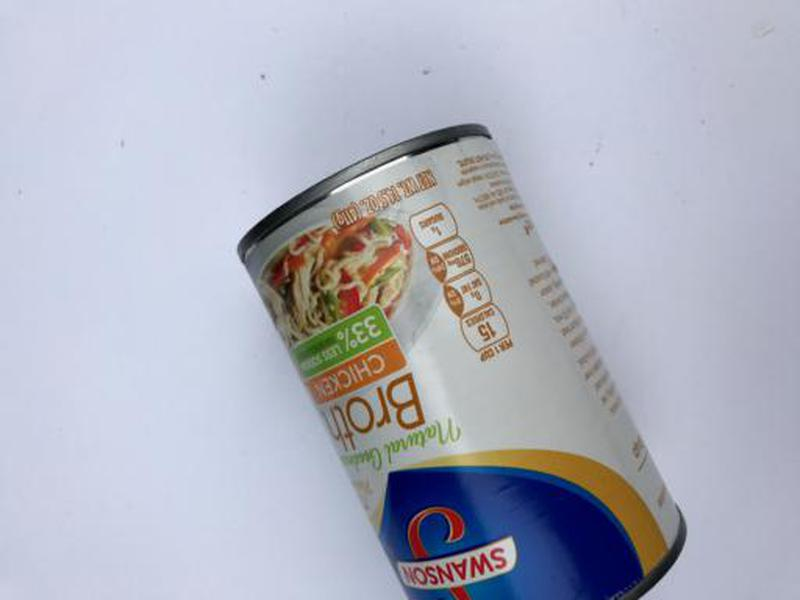can: (232, 122, 695, 600)
